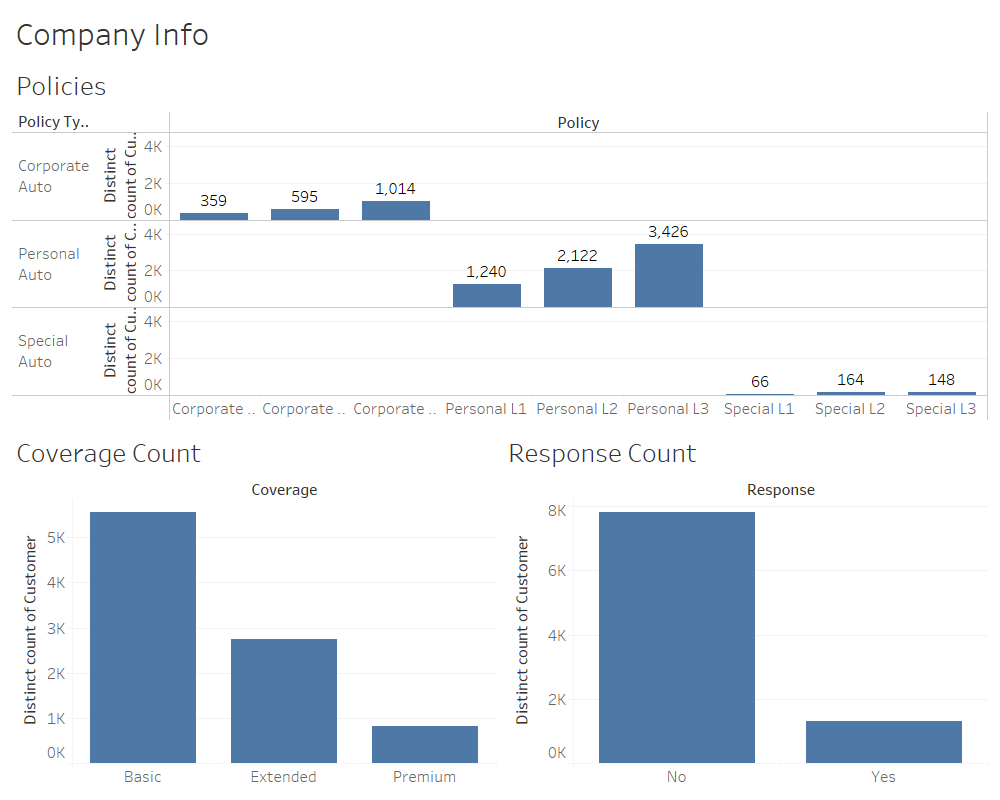

This screenshot's page, from the dashboard's own definition file:
{"tool":"tableau","page":{"name":"Company Info","canvas":[1000,800],"ordinal":0},"visuals":[{"type":"worksheet","box":[0,0,1000,800]},{"type":"worksheet","param":"vert","box":[8,8,984,784]},{"type":"worksheet","box":[8,8,984,50]},{"type":"worksheet","box":[8,58,984,734]},{"type":"worksheet","title":"Policies","mark":"Automatic","rows":["Policy Type","Customer"],"cols":["Policy"],"box":[8,58,984,367]},{"type":"worksheet","title":"Coverage Count","mark":"Automatic","rows":["Customer"],"cols":["Coverage"],"box":[8,425,492,367]},{"type":"worksheet","title":"Response Count","mark":"Automatic","rows":["Customer"],"cols":["Response"],"box":[500,425,492,367]}]}

Visuals, with their boxes in screenshot pixels (x1, y1, x2, y2), scaled from the page's 1000x800 canvas onto the 1000x800 screenshot:
worksheet: [0,0,999,799]
worksheet: [8,8,992,792]
worksheet: [8,8,992,58]
worksheet: [8,58,992,792]
"Policies" worksheet: [8,58,992,425]
"Coverage Count" worksheet: [8,425,500,792]
"Response Count" worksheet: [500,425,992,792]
